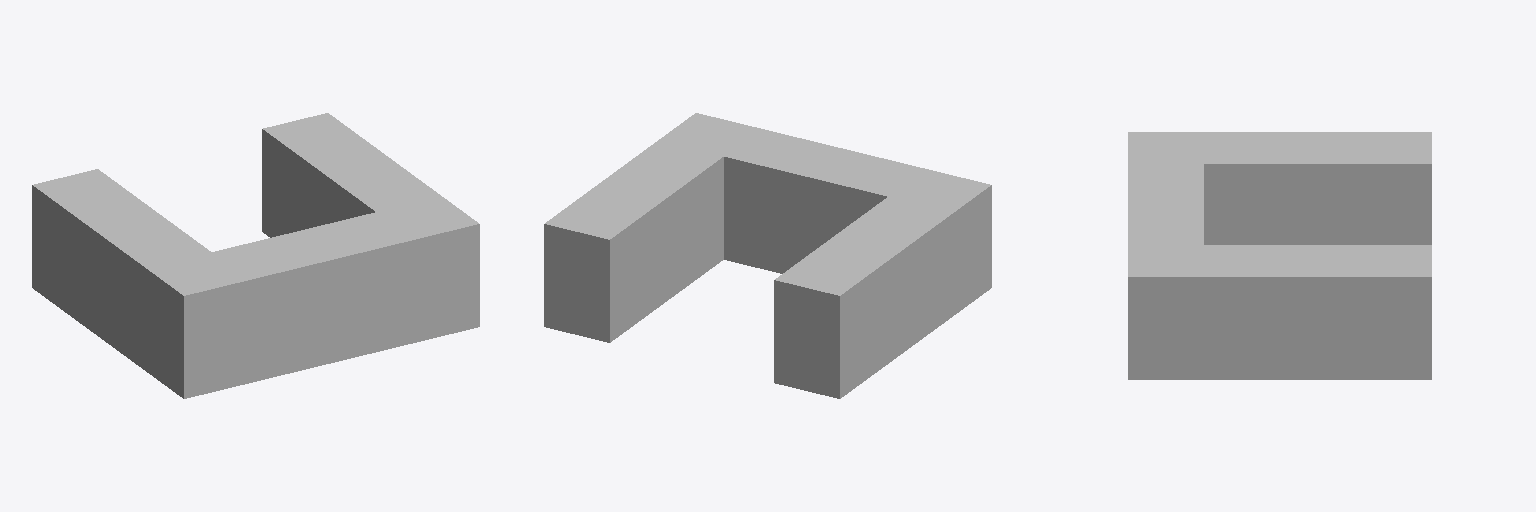
File: corridor-u.obj
3 views of the same model, side by side, from view 1: azimuth 30°, elevation 25°; view 2: azimuth 150°, elevation 25°; view 3: azimuth 270°, elevation 25° (orthographic).
Visible parts, largest first — view 1: Cube; view 2: Cube; view 3: Cube.
Part boxes in pixels (bbox=[...]): Cube: bbox=[32, 113, 479, 398]; Cube: bbox=[544, 113, 991, 398]; Cube: bbox=[1128, 132, 1431, 379].
Size of the model in its own units: 9 by 3 by 8.